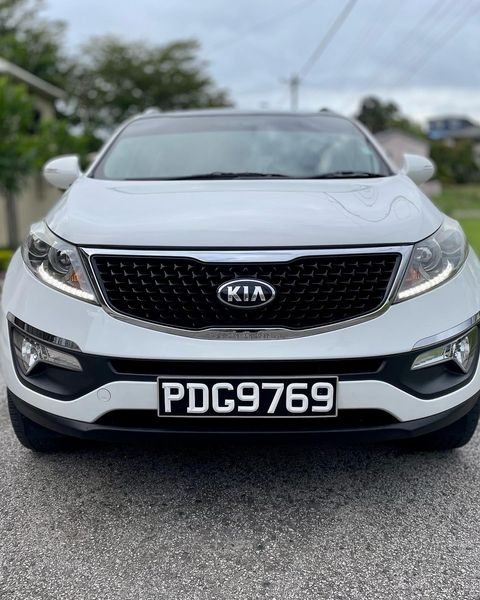License-Plate: (158, 377, 336, 416)
